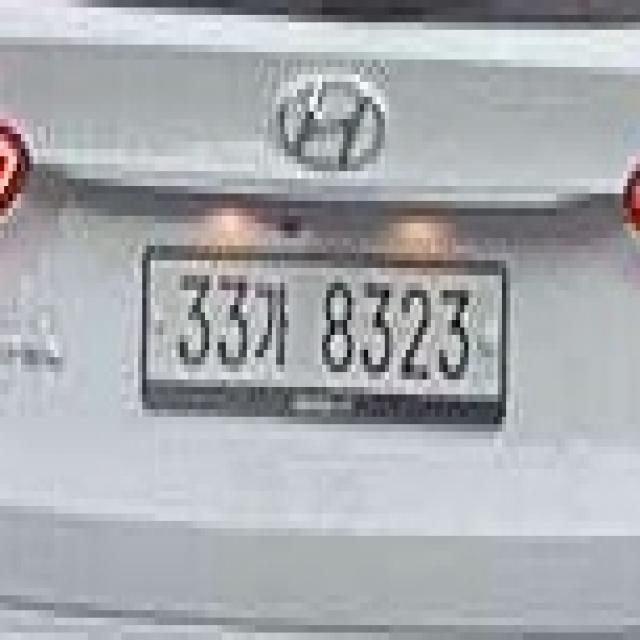2: (397, 275, 435, 387)
3: (213, 268, 251, 379), (360, 275, 397, 387), (435, 283, 473, 387), (176, 268, 209, 387)
8: (318, 268, 355, 387)
ga: (251, 275, 293, 372)
license_plate: (147, 246, 506, 409)
